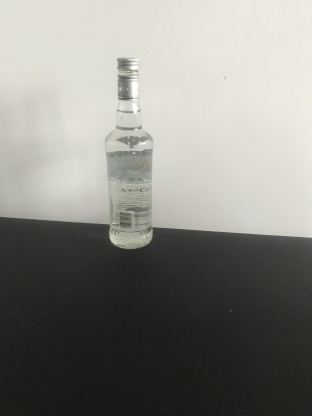nakretka: (115, 56, 140, 101)
